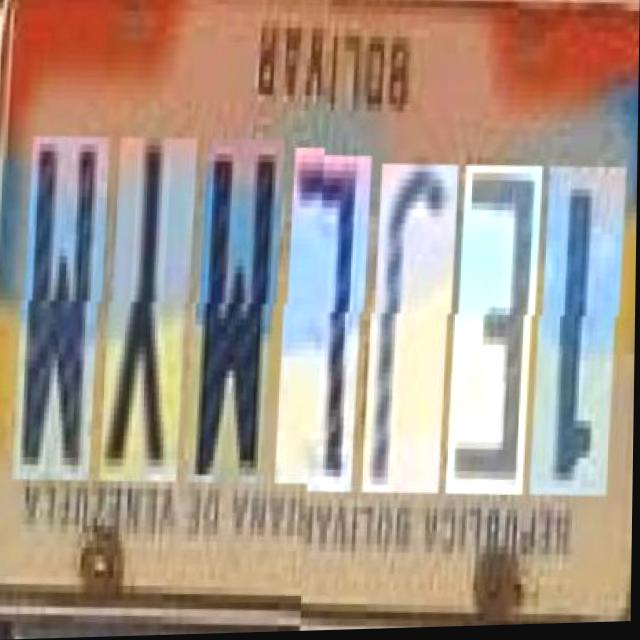1: (530, 162, 620, 494)
e: (446, 161, 536, 493)
j: (363, 160, 452, 492)
l: (274, 151, 365, 492)
m: (12, 140, 103, 489), (187, 143, 278, 490)
y: (100, 141, 190, 490)
